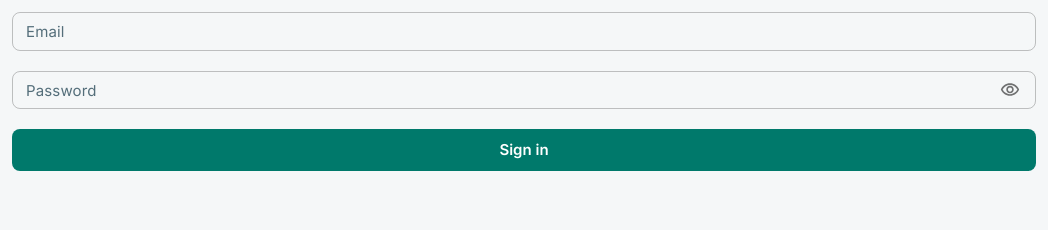
Test: SignInForm › asks for both fields before sending anything
Click the button "Sign in": (524, 150) left=12, top=129, right=1036, bottom=171
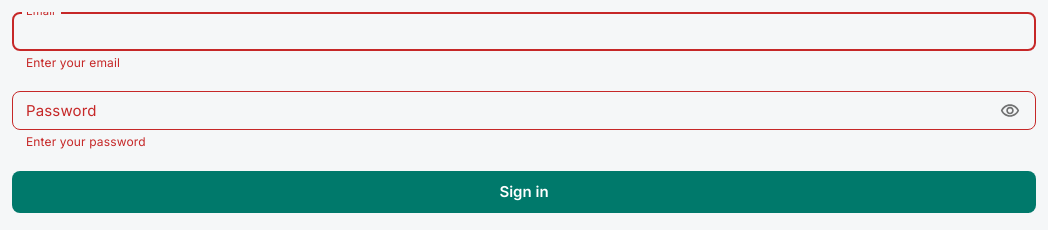
Expected: the text "Enter your email" is shown, left=26, top=55, right=120, bottom=70
Expected: the text "Enter your password" is shown, left=26, top=134, right=146, bottom=149
